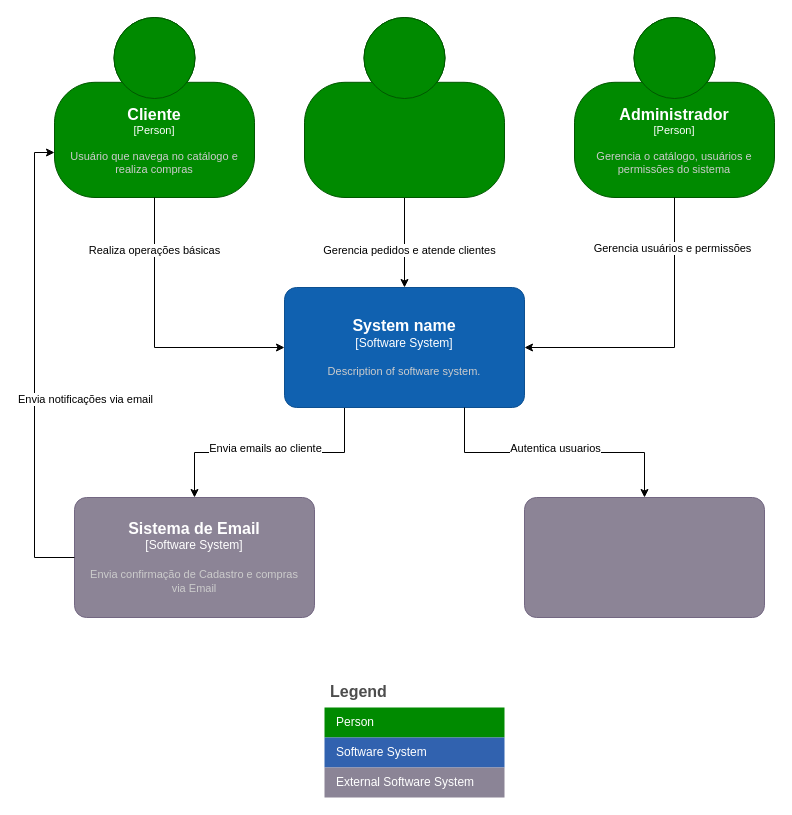
This 792x815 diagram has some shape labels left out. The shapes that lost their labels are listed below. From the top down, each one's centre as x and y in pixels, then its label:
(x=404, y=107): Funcionario [Person] Colaborador que processa pedidos e realiza o atendimento
(x=644, y=557): Sistema de Autenticação SSO [Software System] Autentica usuarios via SSO
